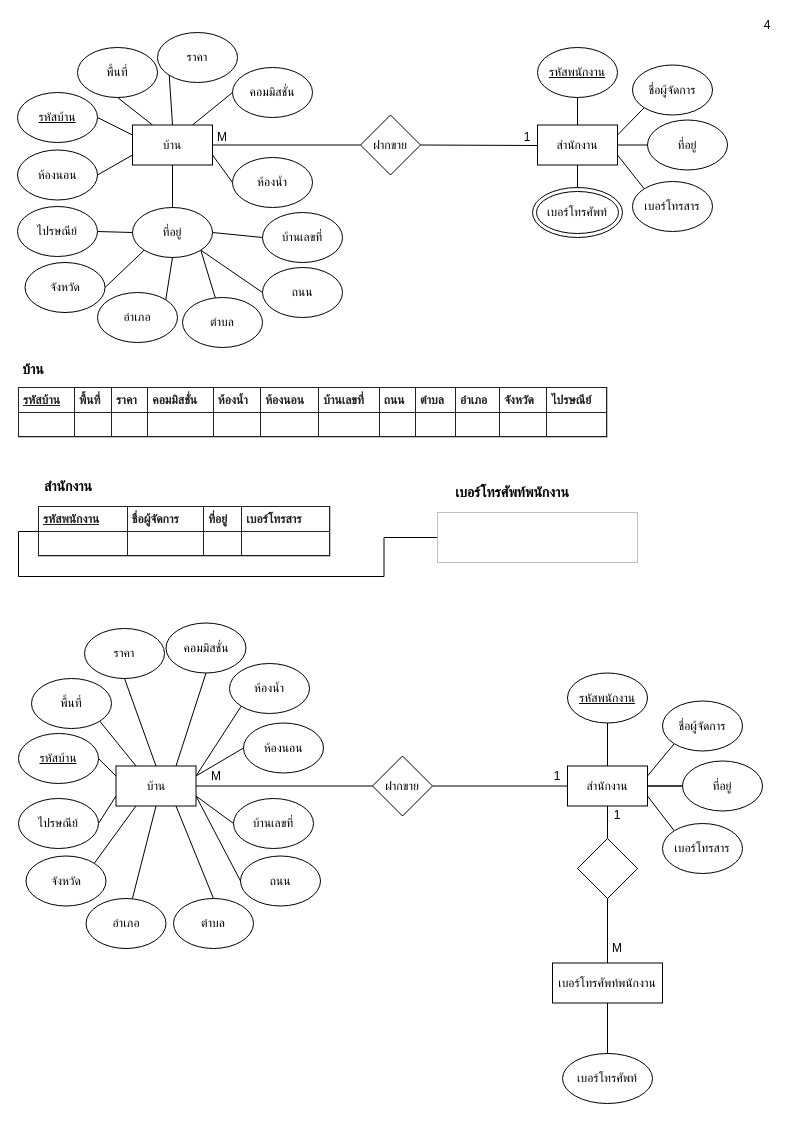
The diagram is 795 pixels wide and 1121 high, and some of its shapes have lost their labels. The shapes that lost their labels are listed below. From the top down, each one's centre as x and y in pixels, then its label:
[537,537]: รหัสพนักงาน เบอร์โทรศัพท์
[607,868]: มี
